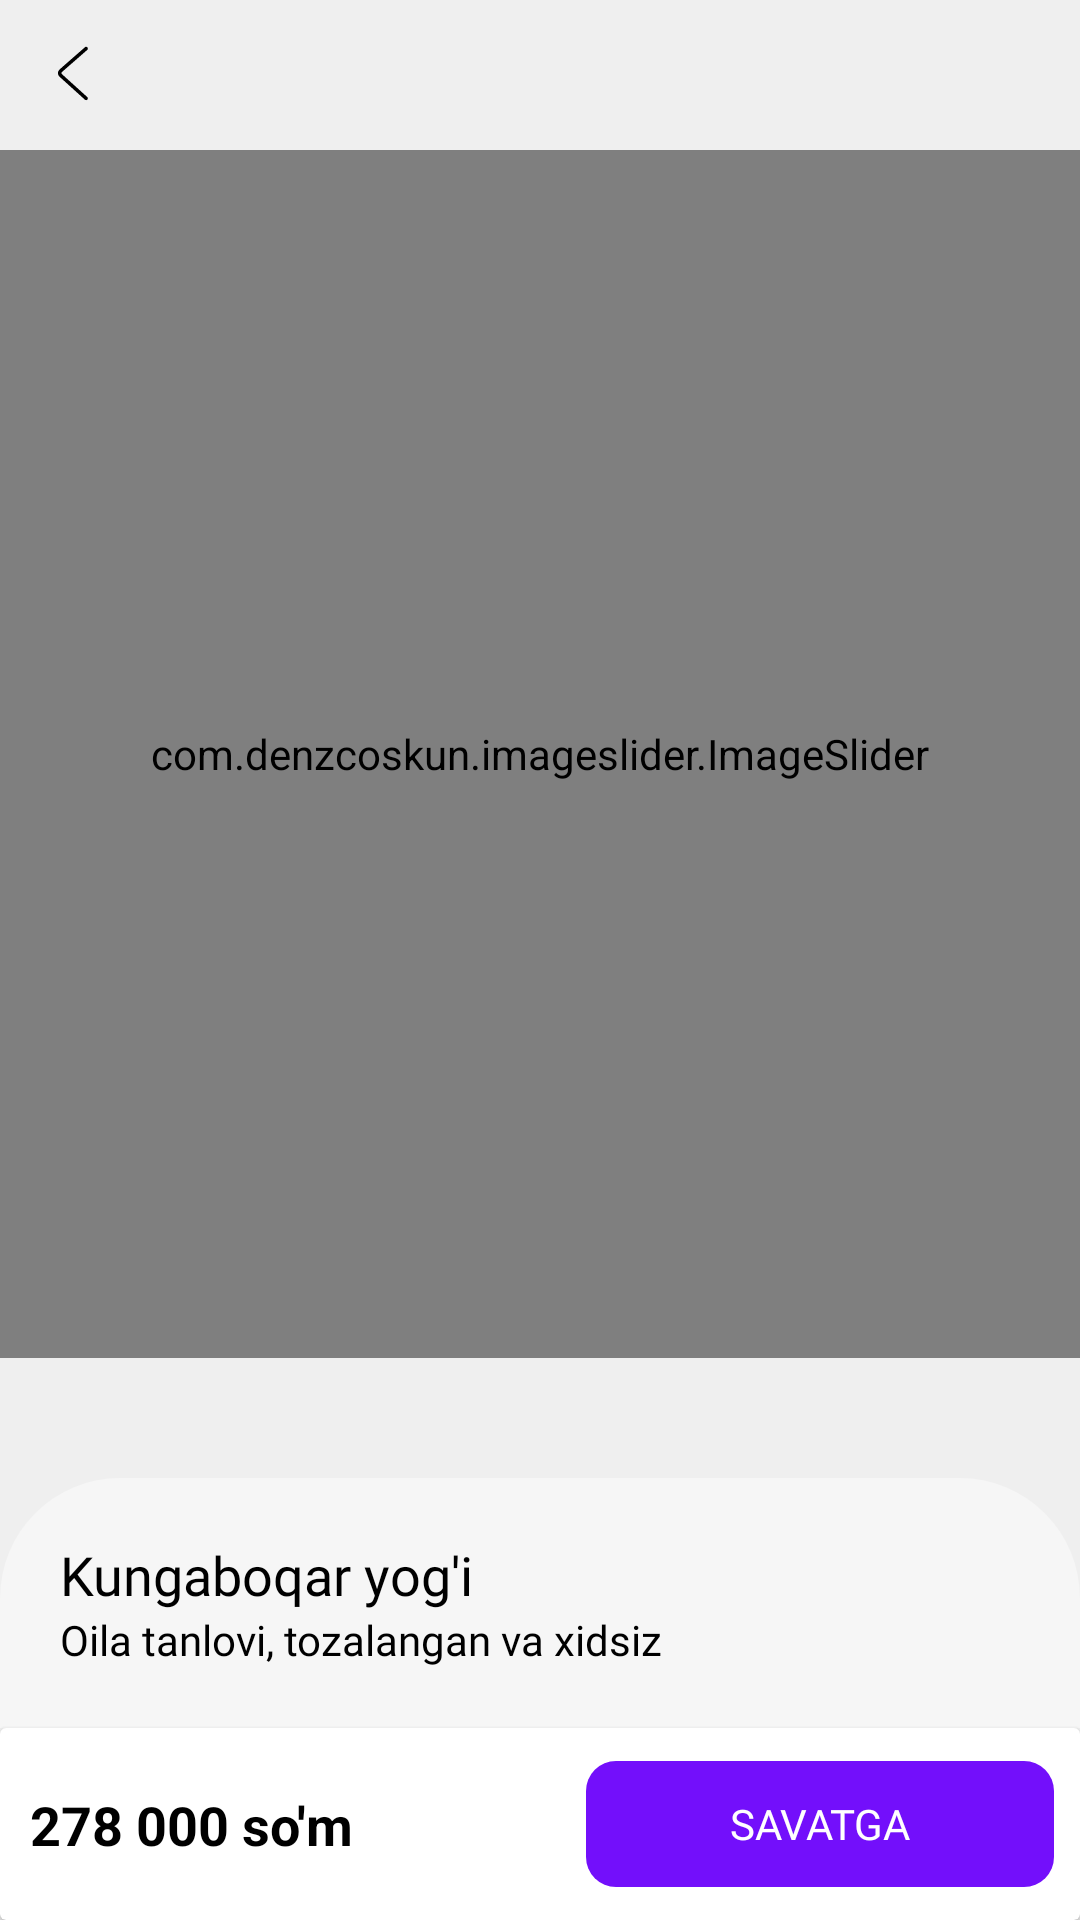

Icon bounding boxes for this 1080px x 1920px phone screenshot, format bbox=(x1, y1, x2, y2):
back: bbox=(58, 46, 88, 100)
